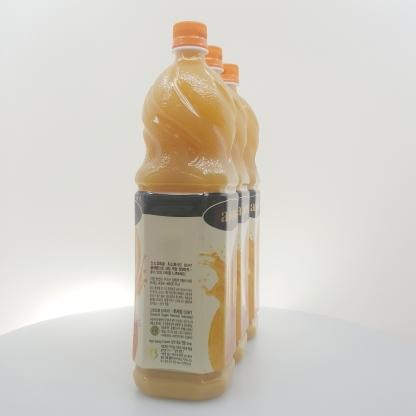-------1-5L: (132, 21, 238, 401)
